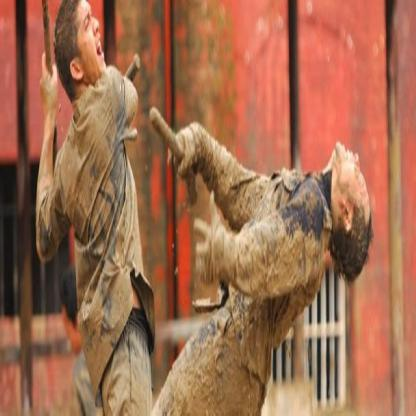face: (333, 134, 369, 220), (82, 7, 108, 85)
